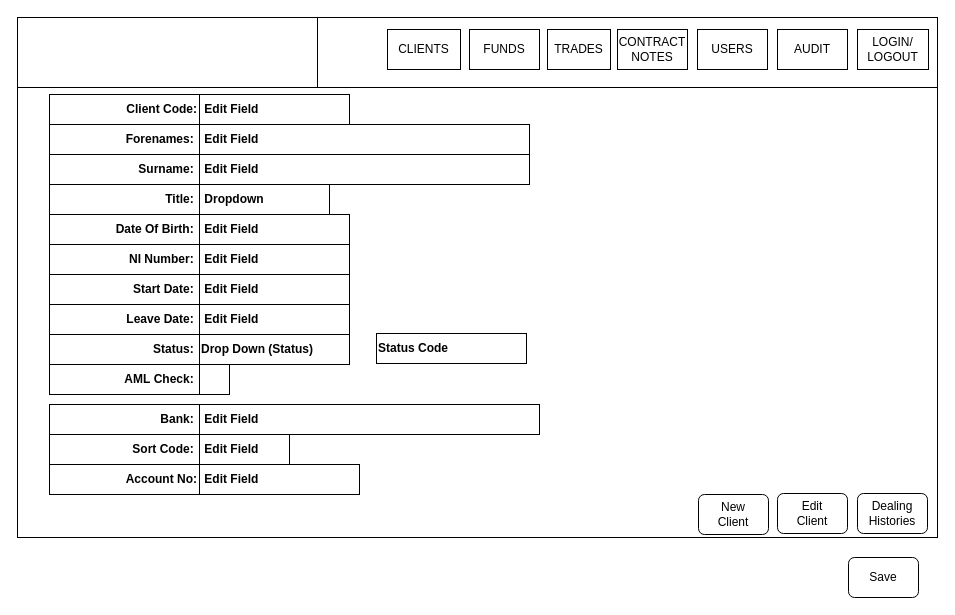
The diagram is 955 pixels wide and 615 high, and some of its shapes have lost their labels. Here are the shapes that lost their labels. From the top down, the centre of each, then its label:
the point at 167,52: FUND BROKER: CLIENT TRADE DETAILS
the point at 214,379: Chk
